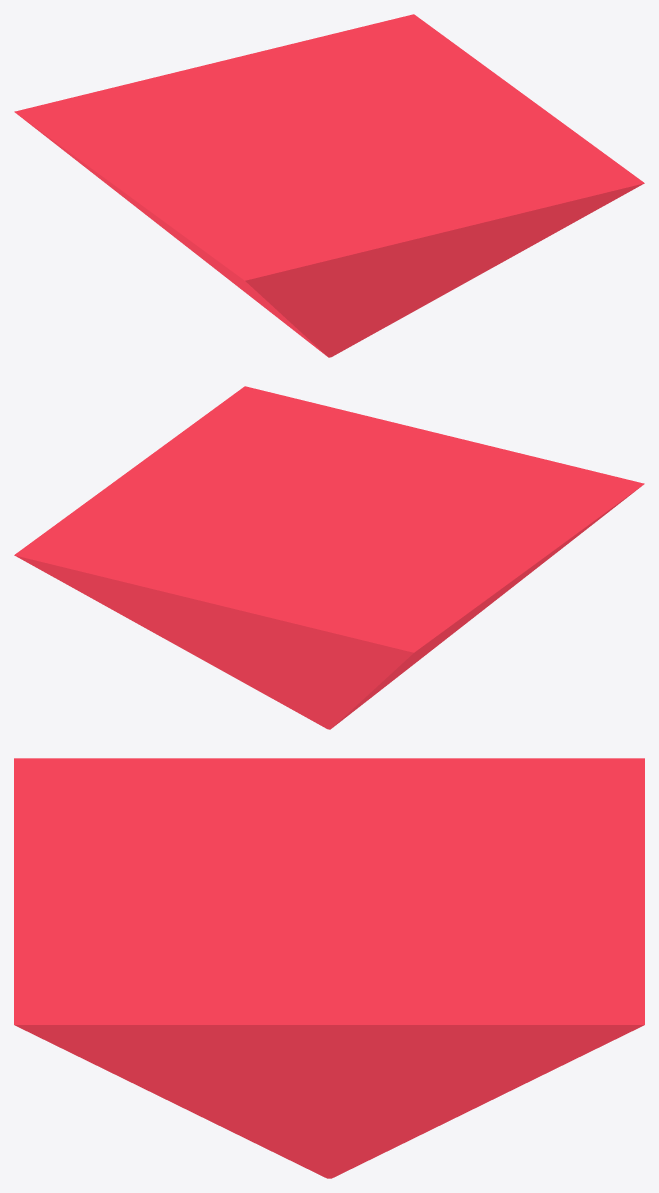
3 views of the same model, one above another, from view 1: azimuth 30°, elevation 25°; view 2: azimuth 150°, elevation 25°; view 3: azimuth 270°, elevation 25° (orthographic). The views are drawn at different scales.
Parts seen in each view (by area): view 1: Box001; view 2: Box001; view 3: Box001.
Boxes of the visible parts, left/top/right/bottom form: Box001: left=14, top=14, right=644, bottom=357; Box001: left=14, top=386, right=644, bottom=729; Box001: left=14, top=758, right=644, bottom=1178.
Bounding box in the file's own units: 1.52 × 0.762 × 1.52.
